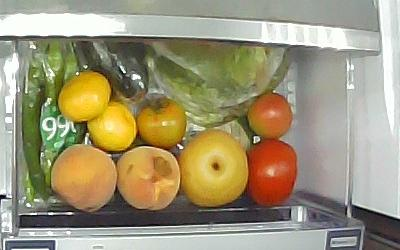peach: (49, 142, 117, 211), (114, 144, 181, 211)
pear: (175, 126, 249, 208)
tangerine: (56, 68, 111, 122), (85, 99, 136, 151)
tomato: (244, 136, 297, 206), (134, 95, 187, 149), (245, 90, 293, 139)
